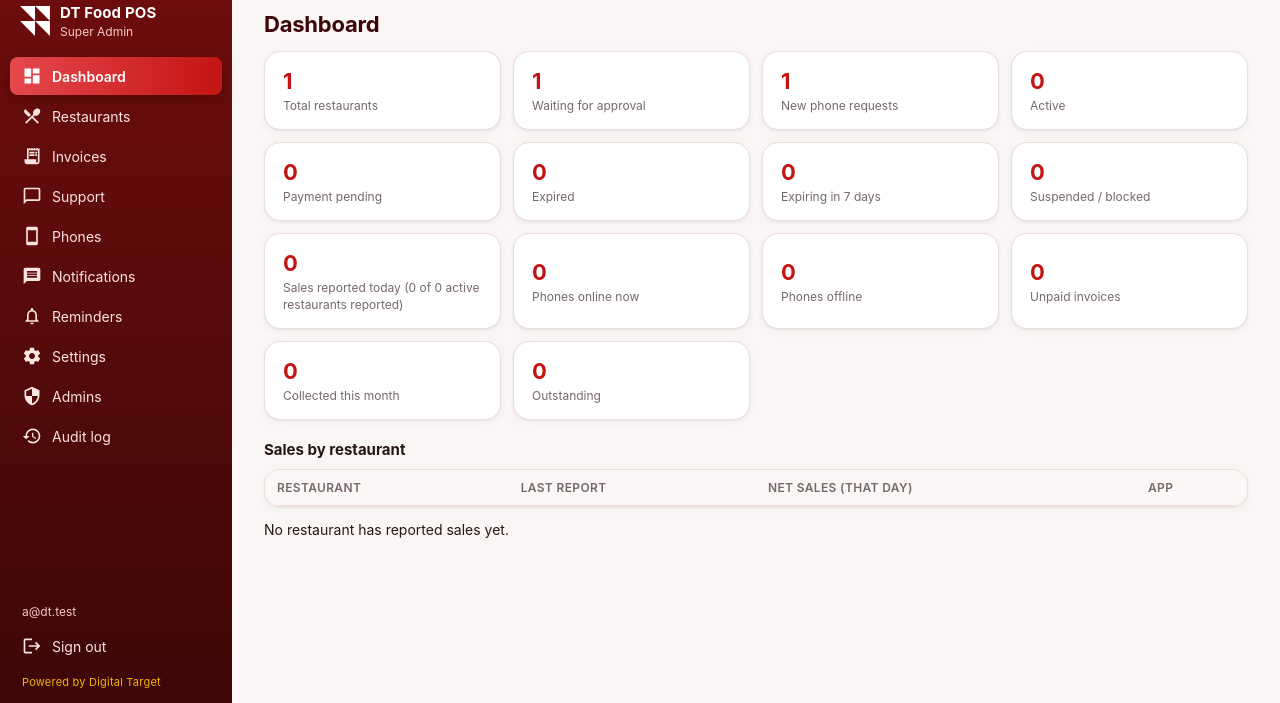
Scenario: panel › assigns and locks an app theme, or custom colours, for one restaurant
The image size is (1280, 703).
Later steps or results of the test are not shown.
Click the button "Restaurants". click: point(116, 116)
box: [10, 97, 222, 135]
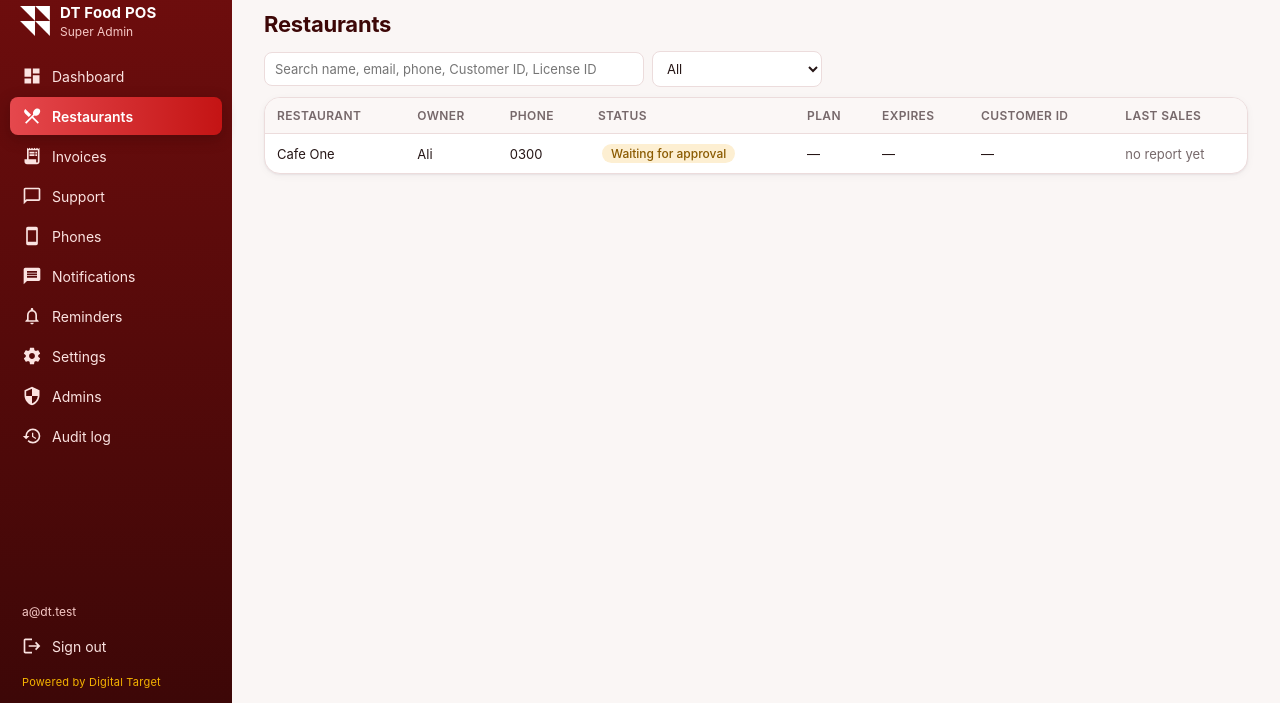
Click the text "Cafe One". click: point(335, 154)
box: [265, 134, 405, 173]
(page scrolled)
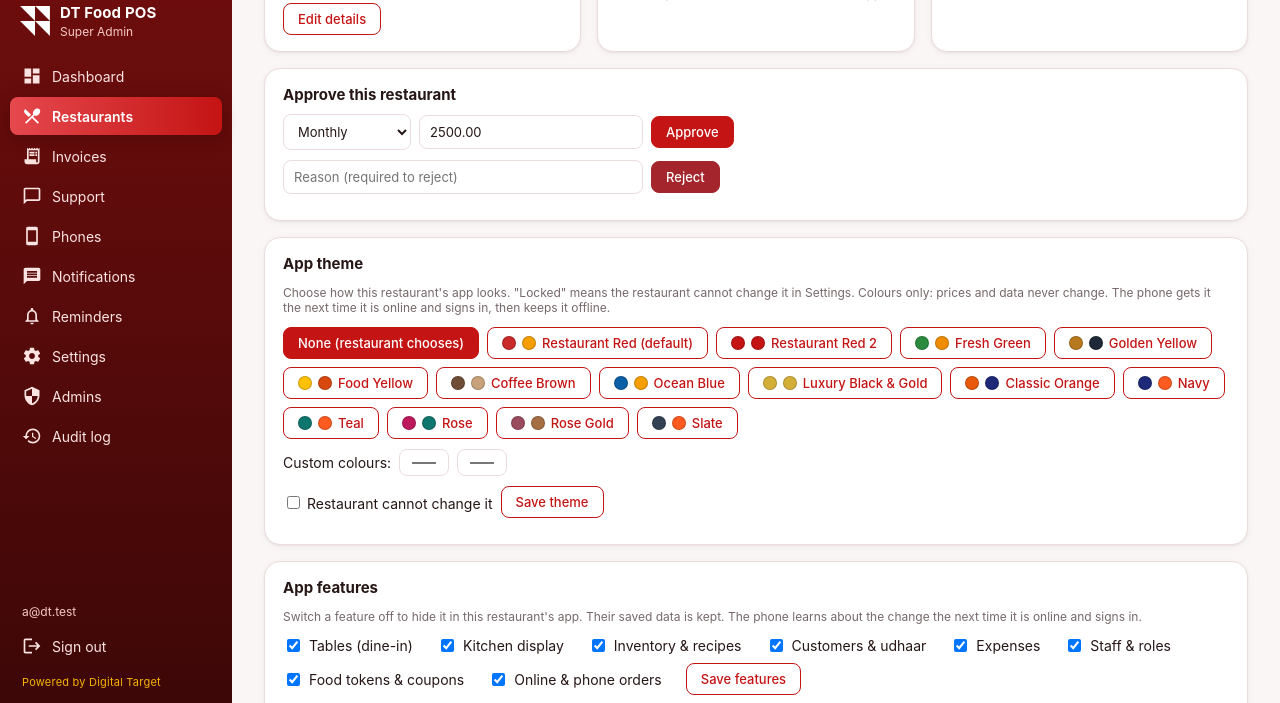
expect the heading "App theme" is shown: met, box [283, 254, 363, 273]
